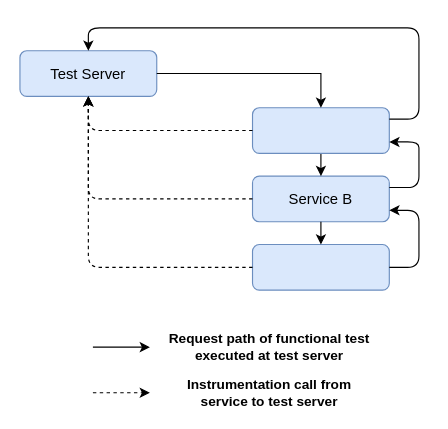
This 448x429 diagram has some shape labels left out. Each missing label, with the centre of its shape:
Service A: the point at 320,130
Service C: the point at 320,266
